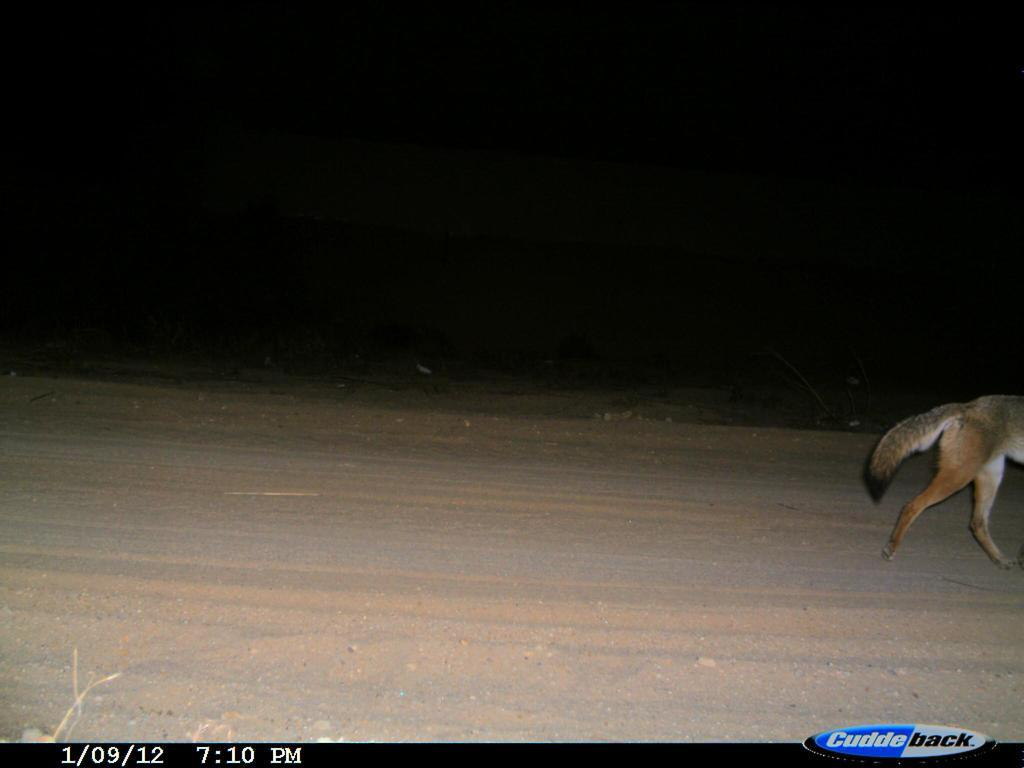coyote: (856, 376, 1024, 577)
